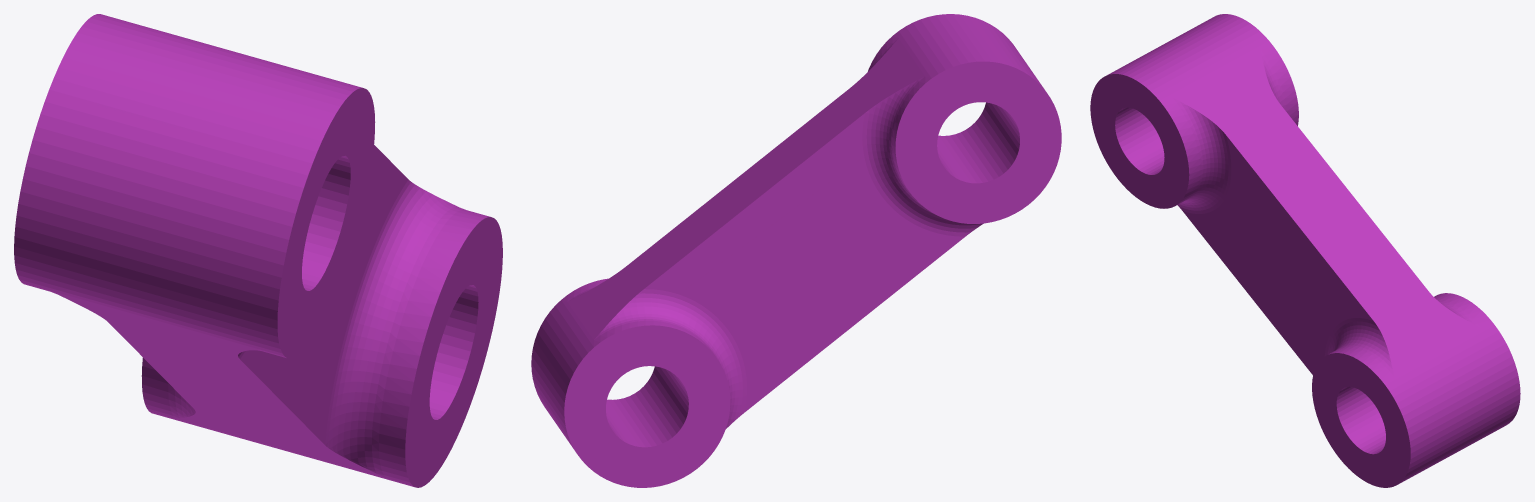
File: Rod1.glb
The picture shows the model from 3 angles, left to right: view 1: azimuth 30°, elevation 25°; view 2: azimuth 150°, elevation 25°; view 3: azimuth 270°, elevation 25°; orthographic projection. The views are drawn at different scales.
Parts seen in each view (by area): view 1: node_id3; view 2: node_id3; view 3: node_id3.
Part boxes in pixels (left/top/right/bottom): node_id3: left=14, top=14, right=502, bottom=487; node_id3: left=531, top=14, right=1061, bottom=487; node_id3: left=1090, top=14, right=1520, bottom=487.
Size of the model in its own units: 1.43 by 1.32 by 1.49.
Materials: 1 (1 with a texture image).
